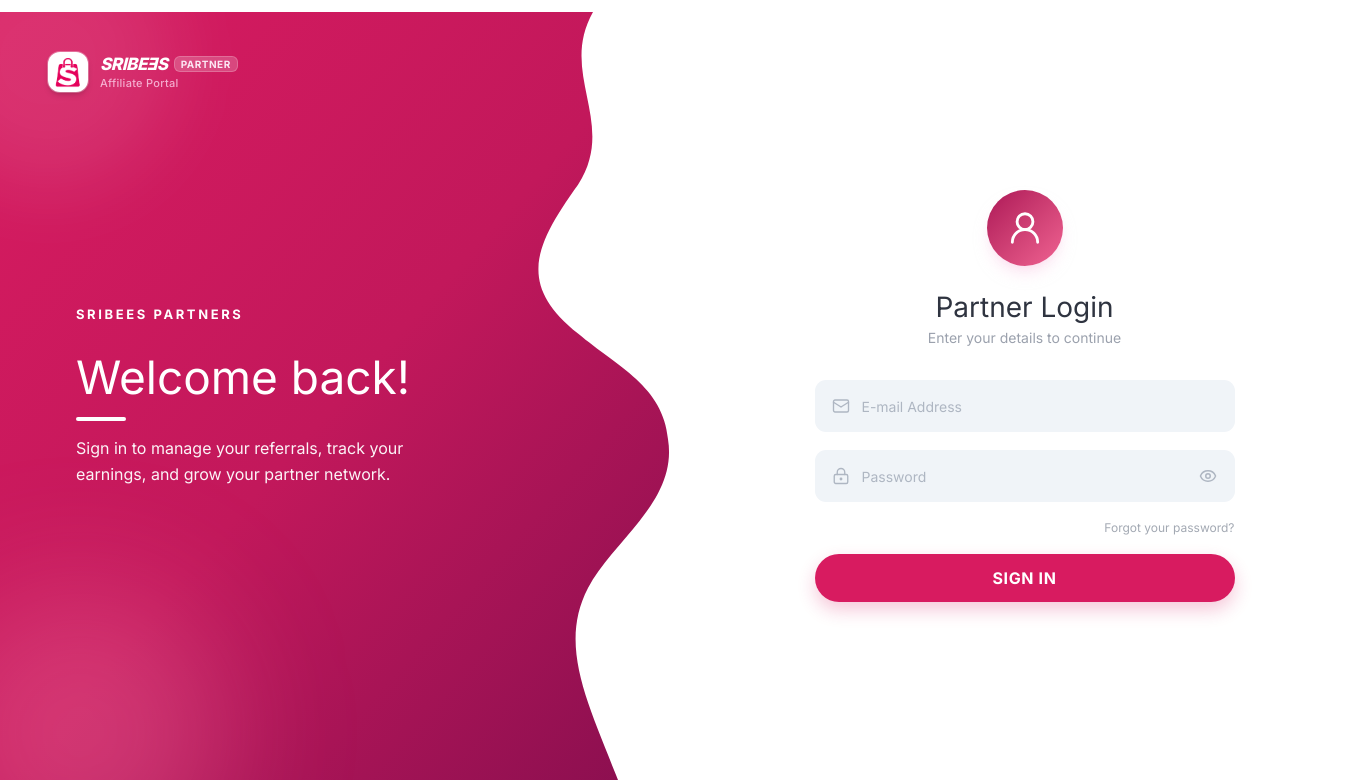
Scenario: Partner login › shows the server's one message for every refusal, so it cannot reveal who is an agent
This screenshot has width=1366, height=780.
Type "nobody@example.test" into the field named "Email" at (1042,406), box x1=850 y1=381 x2=1234 y2=431
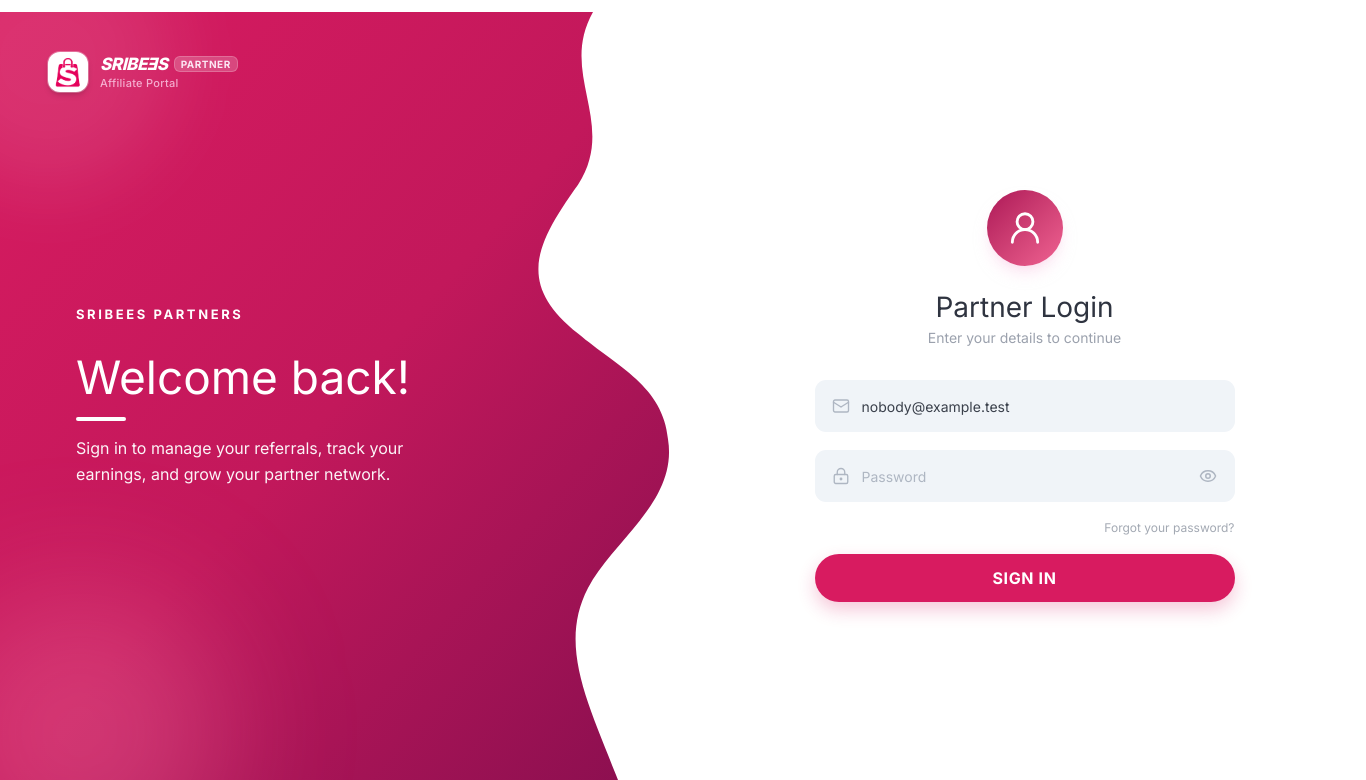
Type "pw" into the password field labelled "Password" at (1022,476), box x1=850 y1=451 x2=1196 y2=501
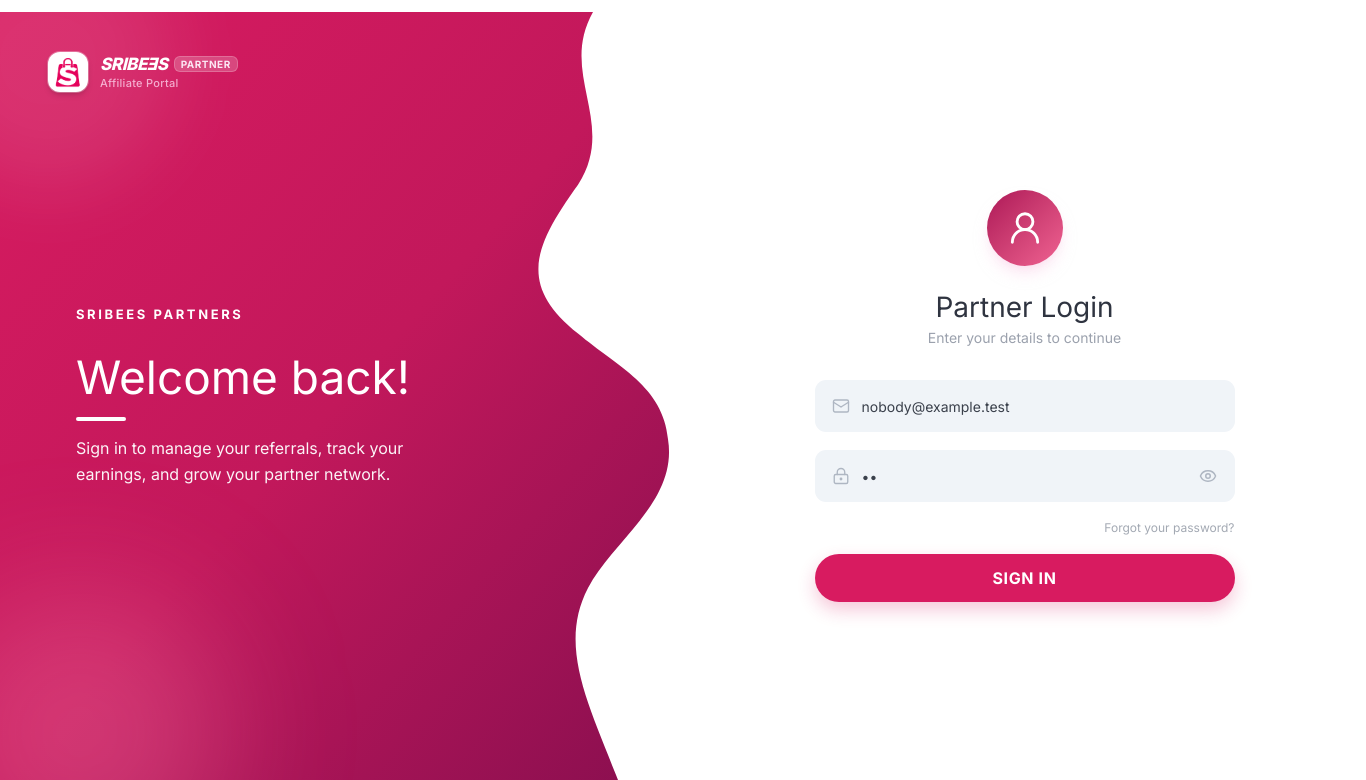
Click the button "Sign in" at (1024,578), box x1=814 y1=554 x2=1234 y2=602
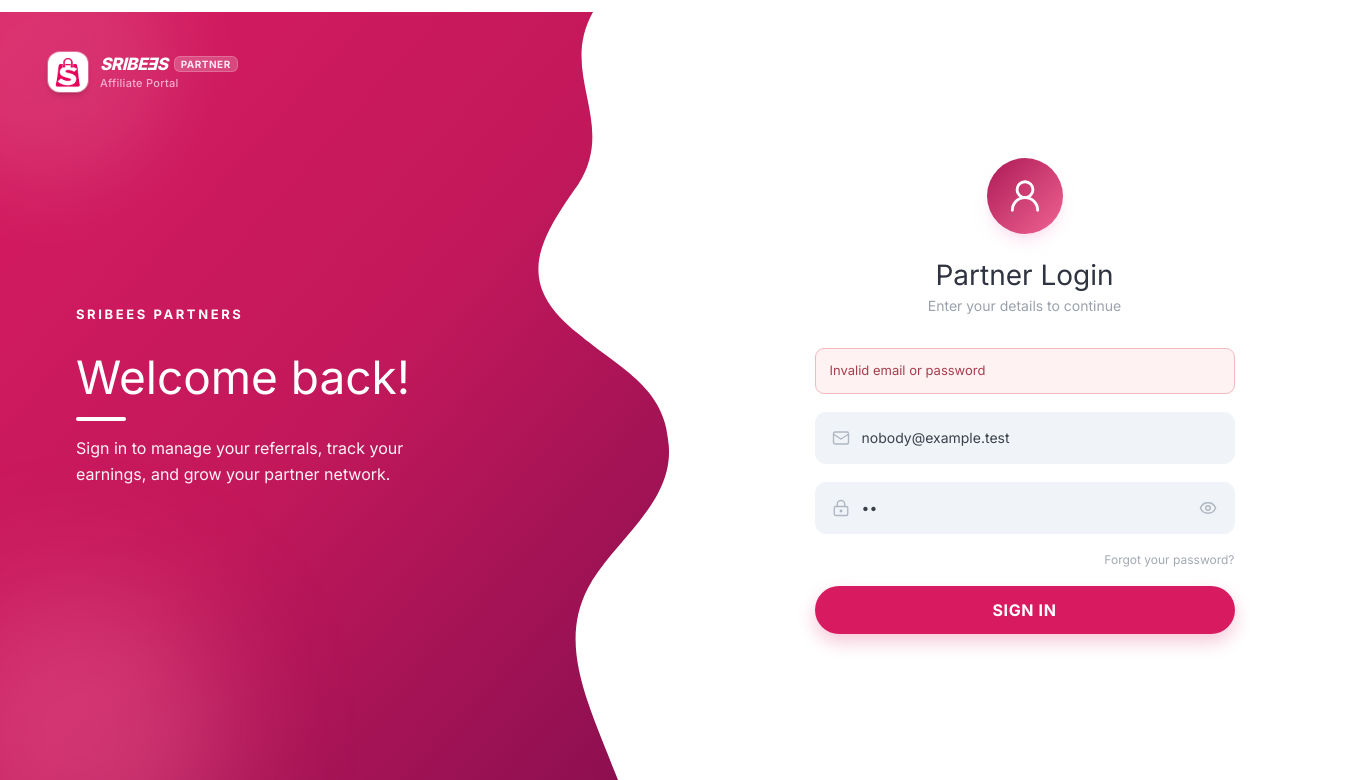
Now the text "Invalid email or password" is shown, box x1=814 y1=348 x2=1234 y2=394
